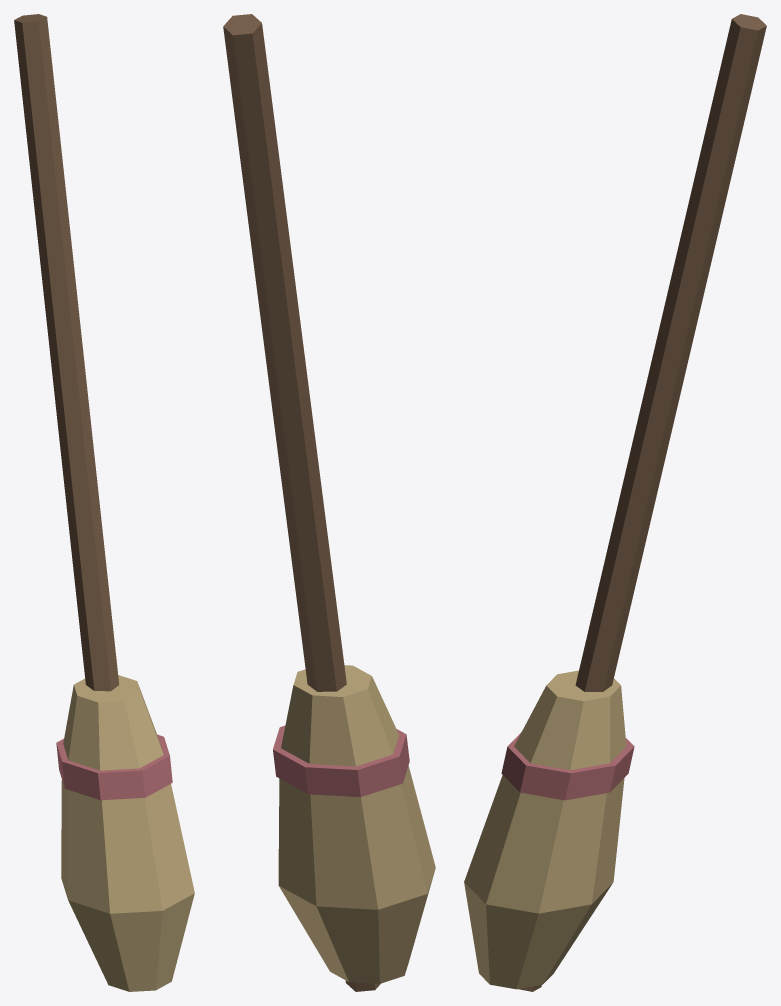
The model's file is broom.glb.
3 renders of one model, left to right at view 1: azimuth 30°, elevation 25°; view 2: azimuth 150°, elevation 25°; view 3: azimuth 270°, elevation 25°, orthographic. The views are drawn at different scales.
Visible parts, largest first — view 1: broom; view 2: broom; view 3: broom.
Boxes of the visible parts, x1,y1,x2,y2 form: broom: [14, 14, 194, 991]; broom: [223, 14, 435, 991]; broom: [464, 14, 766, 991].
Bounding box in the file's own units: 0.2 × 1.43 × 0.4049.
